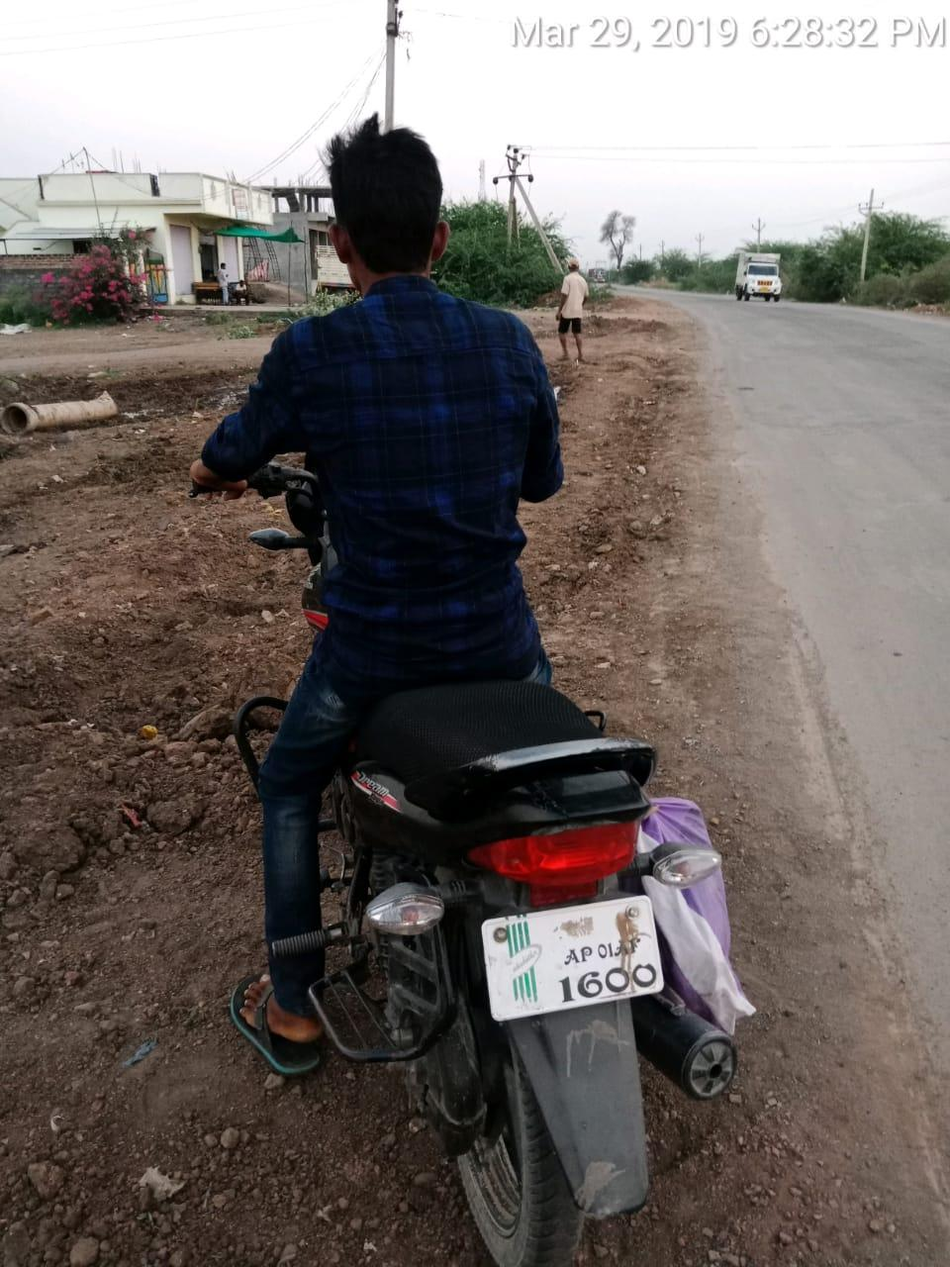plate: (458, 897, 703, 1050)
